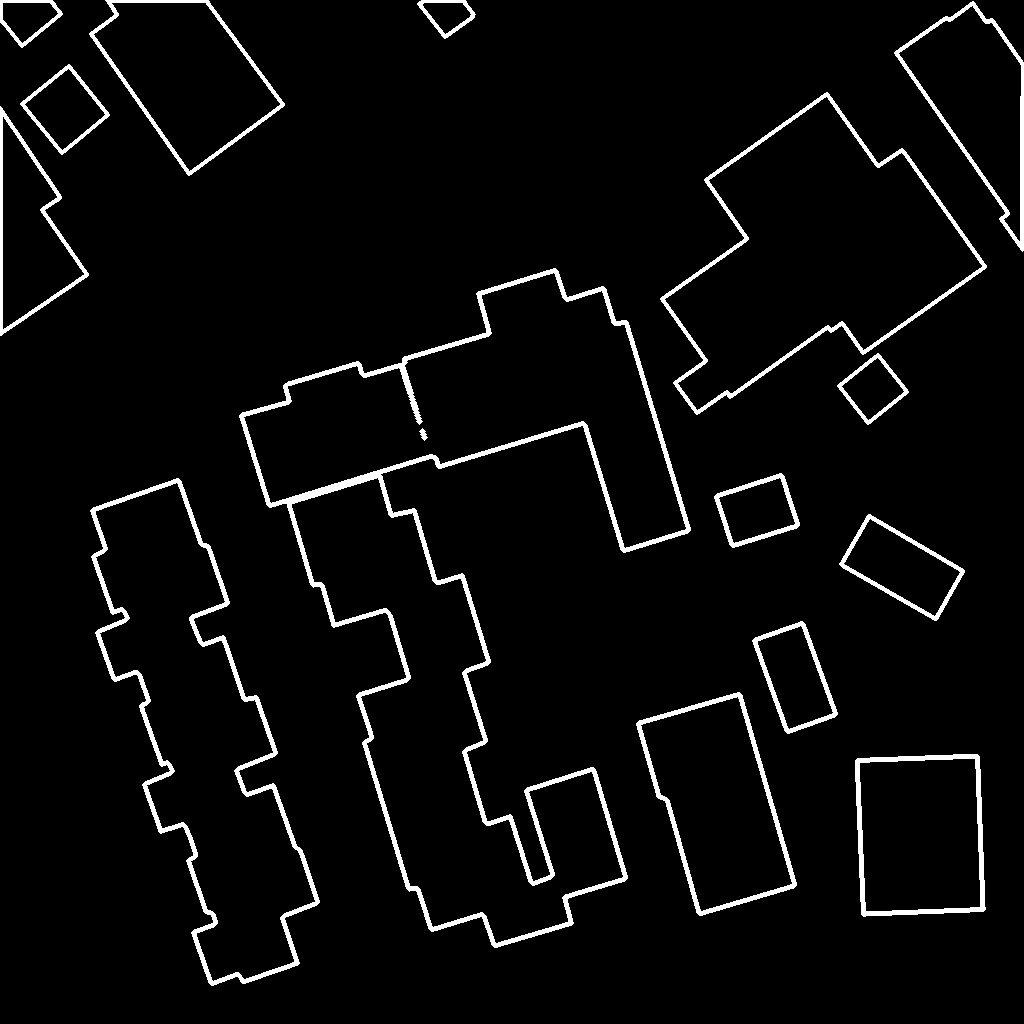building: (288, 475, 627, 947), (92, 480, 319, 985), (662, 94, 986, 414), (402, 270, 690, 552), (638, 694, 796, 915), (91, 0, 284, 175), (896, 3, 1024, 251), (241, 363, 431, 507), (857, 756, 984, 915), (0, 108, 88, 335), (841, 516, 964, 620), (754, 623, 837, 733), (22, 66, 109, 154), (716, 475, 799, 547), (839, 355, 908, 424), (0, 0, 62, 47), (419, 0, 475, 38)
